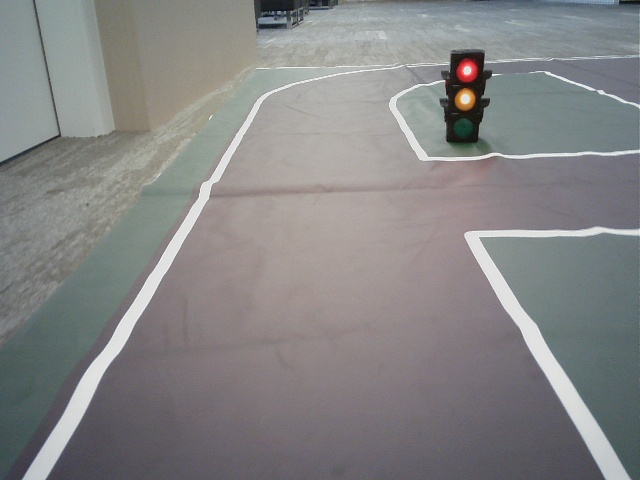red: (450, 52, 479, 140)
